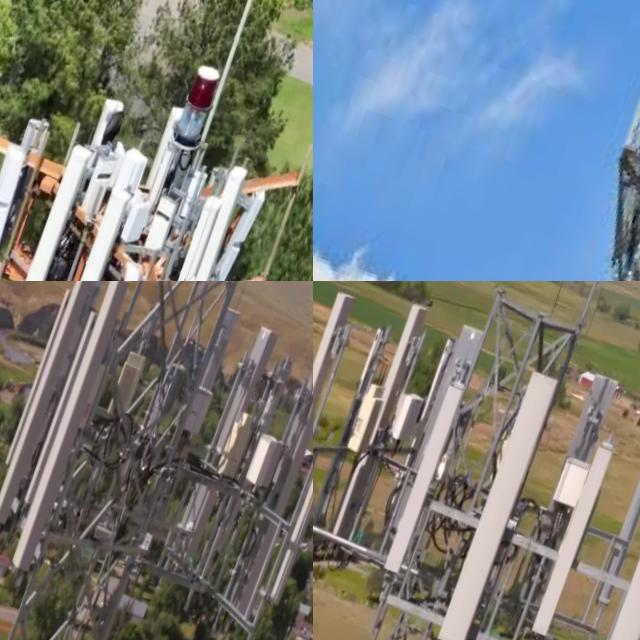GSM Antenna: (4, 281, 138, 587), (165, 311, 294, 611), (431, 362, 568, 640), (327, 288, 441, 561), (0, 281, 115, 546), (222, 338, 313, 632), (527, 423, 624, 640), (378, 373, 473, 589), (313, 281, 369, 581), (0, 281, 75, 479), (585, 415, 640, 640), (11, 135, 95, 281), (169, 147, 257, 281), (47, 171, 139, 281), (267, 412, 313, 611), (590, 430, 640, 611), (146, 187, 230, 281), (0, 130, 40, 263), (105, 341, 154, 428), (88, 254, 155, 281)
